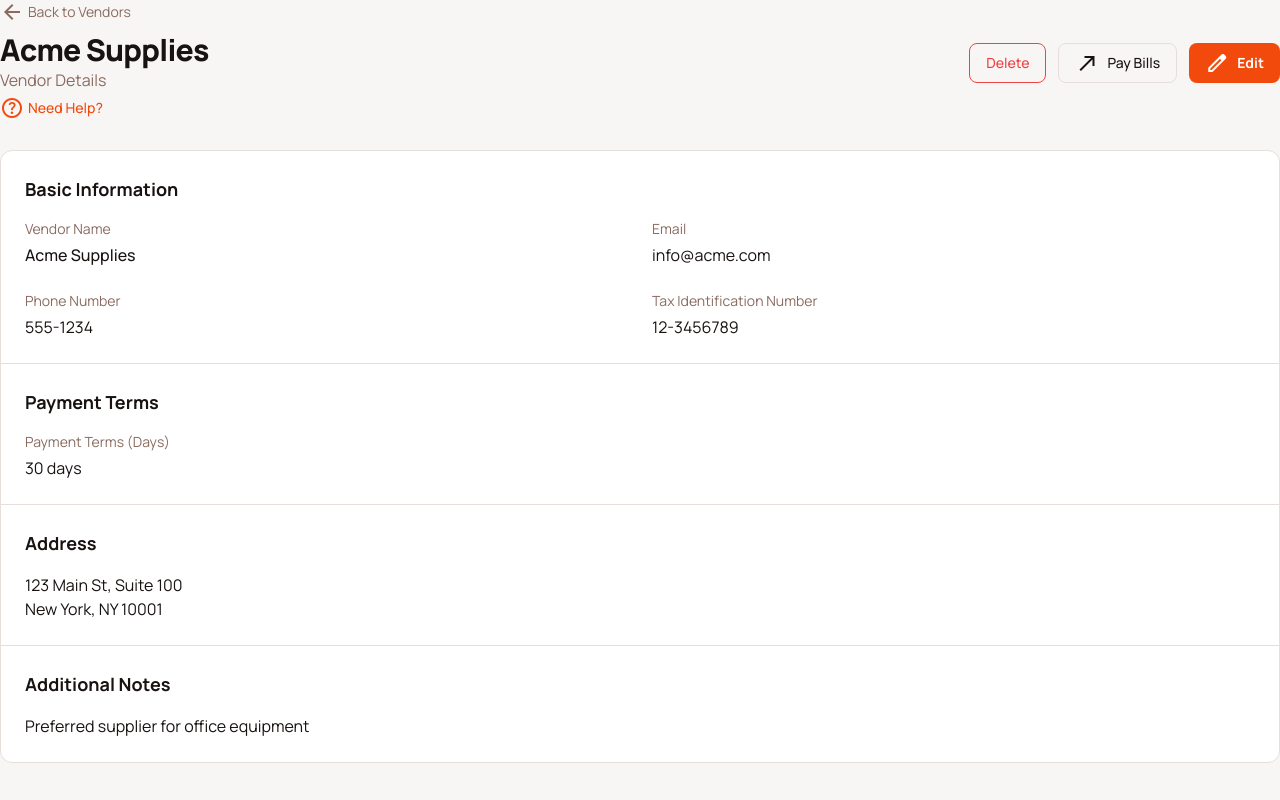
Test: VendorDetailPage › delete functionality › shows deleting state on confirm button
Click the button with test id "vendor-detail-delete": (1008, 63) [969,43,1046,83]
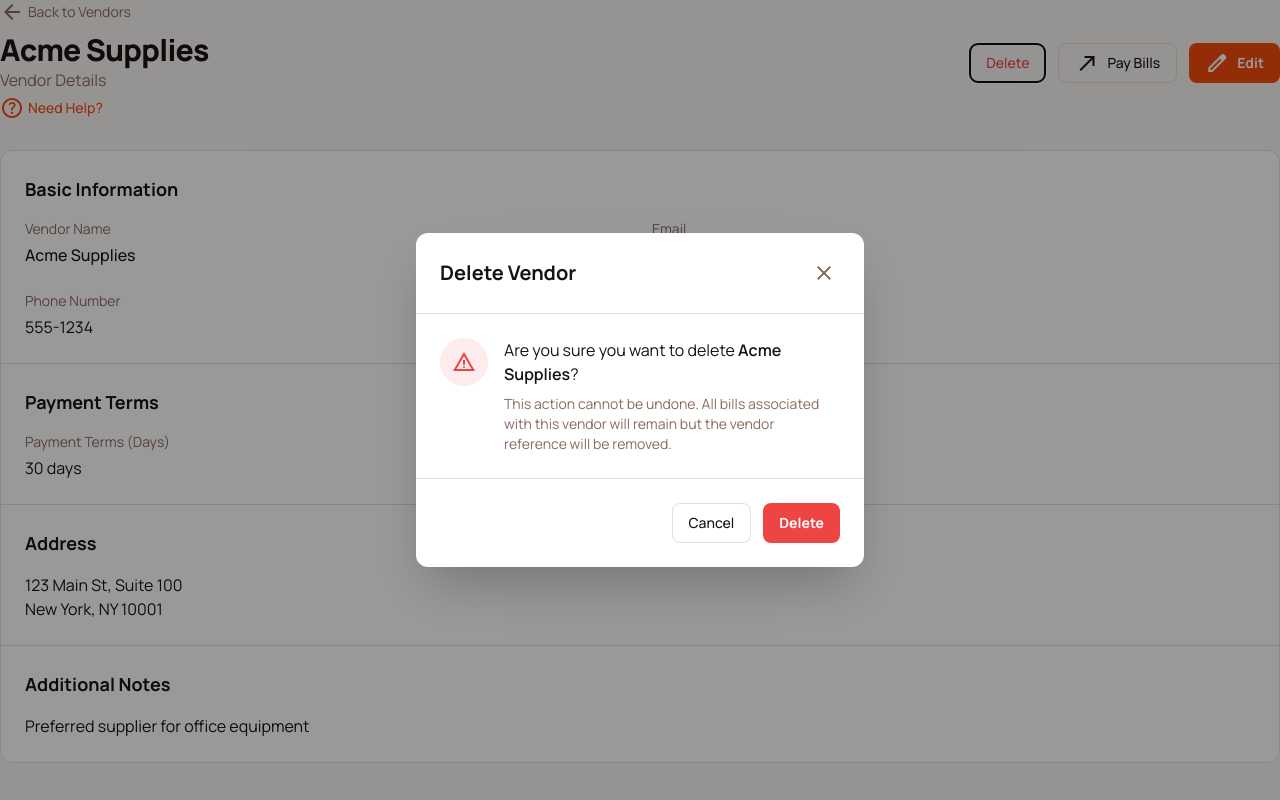
Click the button with test id "delete-confirm-button": (802, 523) [763,503,840,543]
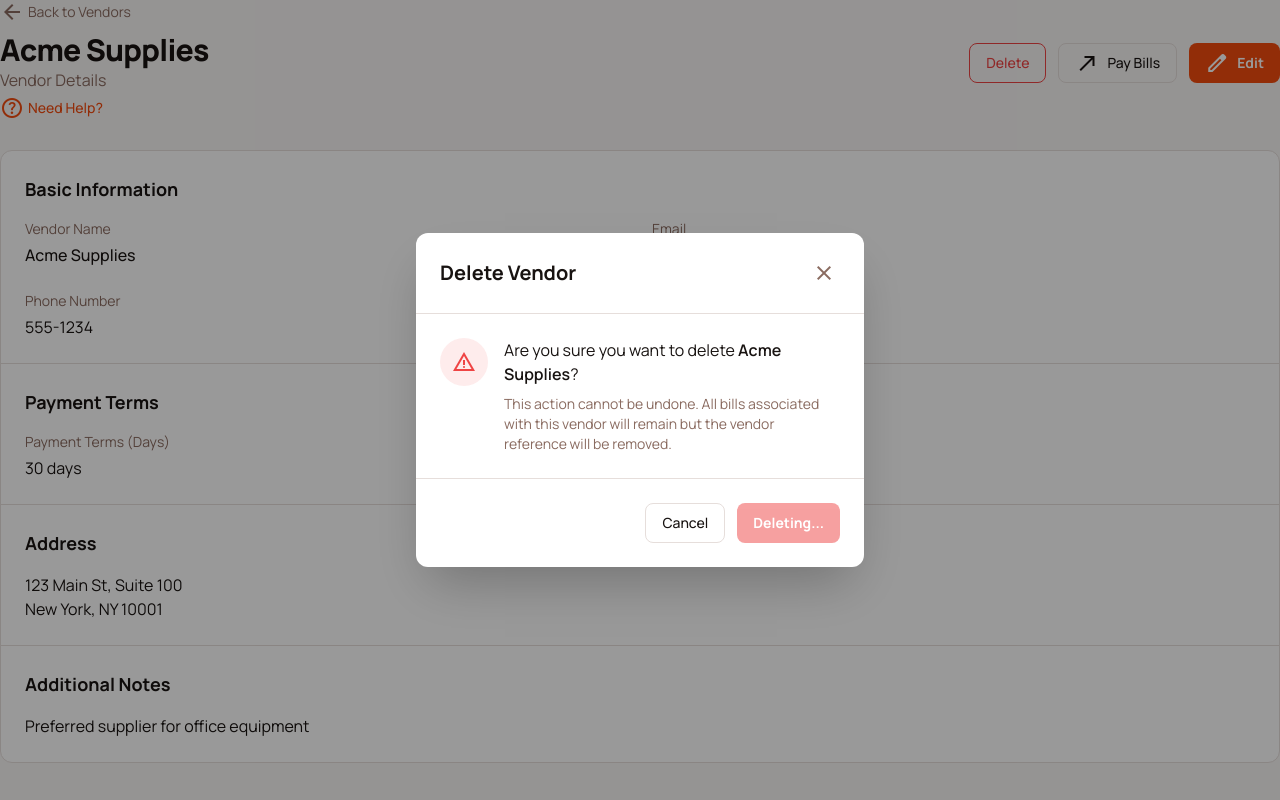
Now the button with test id "delete-confirm-button" reads "Deleting...", box [737,503,840,543]
Now the button with test id "delete-confirm-button" is disabled, box [737,503,840,543]
